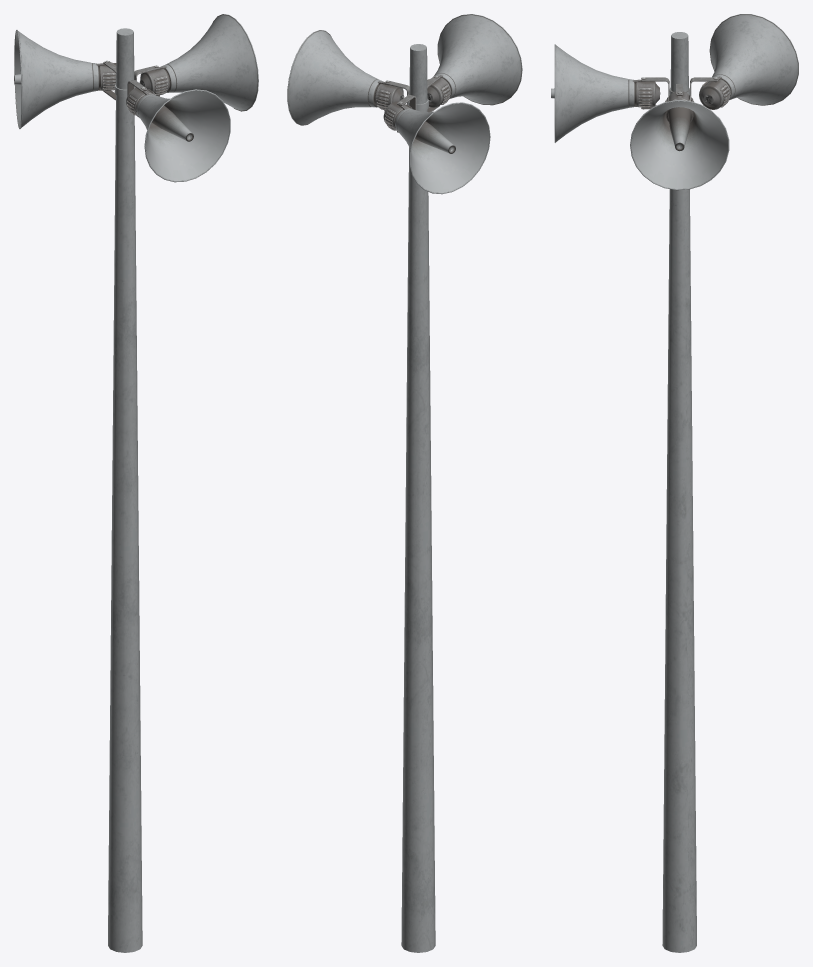
Rendered from SM_Loudspeakers.fbx.
3 renders of one model, left to right at view 1: azimuth 30°, elevation 25°; view 2: azimuth 150°, elevation 25°; view 3: azimuth 270°, elevation 25°, orthographic.
Parts seen in each view (by area): view 1: SM_Loudspeakers; view 2: SM_Loudspeakers; view 3: SM_Loudspeakers.
Part boxes in pixels (x1,y1,x2,y2): SM_Loudspeakers: [14, 14, 258, 952]; SM_Loudspeakers: [287, 14, 522, 952]; SM_Loudspeakers: [551, 14, 798, 952].
Bounding box in the file's own units: 178 × 774 × 191.
Materials: 1 (1 with a texture image).
